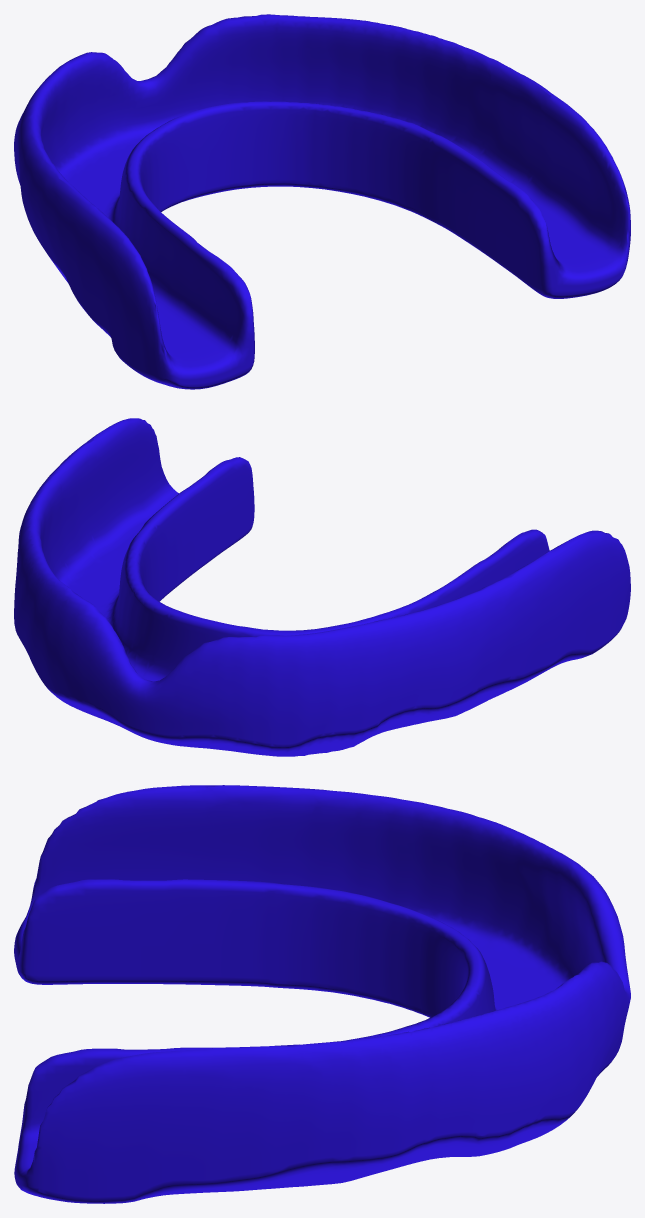
The picture shows the model from 3 angles, top to bottom: view 1: azimuth 30°, elevation 25°; view 2: azimuth 150°, elevation 25°; view 3: azimuth 270°, elevation 25°; orthographic projection. The views are drawn at different scales.
Parts seen in each view (by area): view 1: 16934_athletic_mouthguard_V1; view 2: 16934_athletic_mouthguard_V1; view 3: 16934_athletic_mouthguard_V1.
Part boxes in pixels (bbox=[...]): 16934_athletic_mouthguard_V1: bbox=[14, 14, 630, 389]; 16934_athletic_mouthguard_V1: bbox=[14, 418, 630, 756]; 16934_athletic_mouthguard_V1: bbox=[14, 785, 630, 1203].
Bounding box in the file's own units: 7.13 × 1.91 × 6.64.
